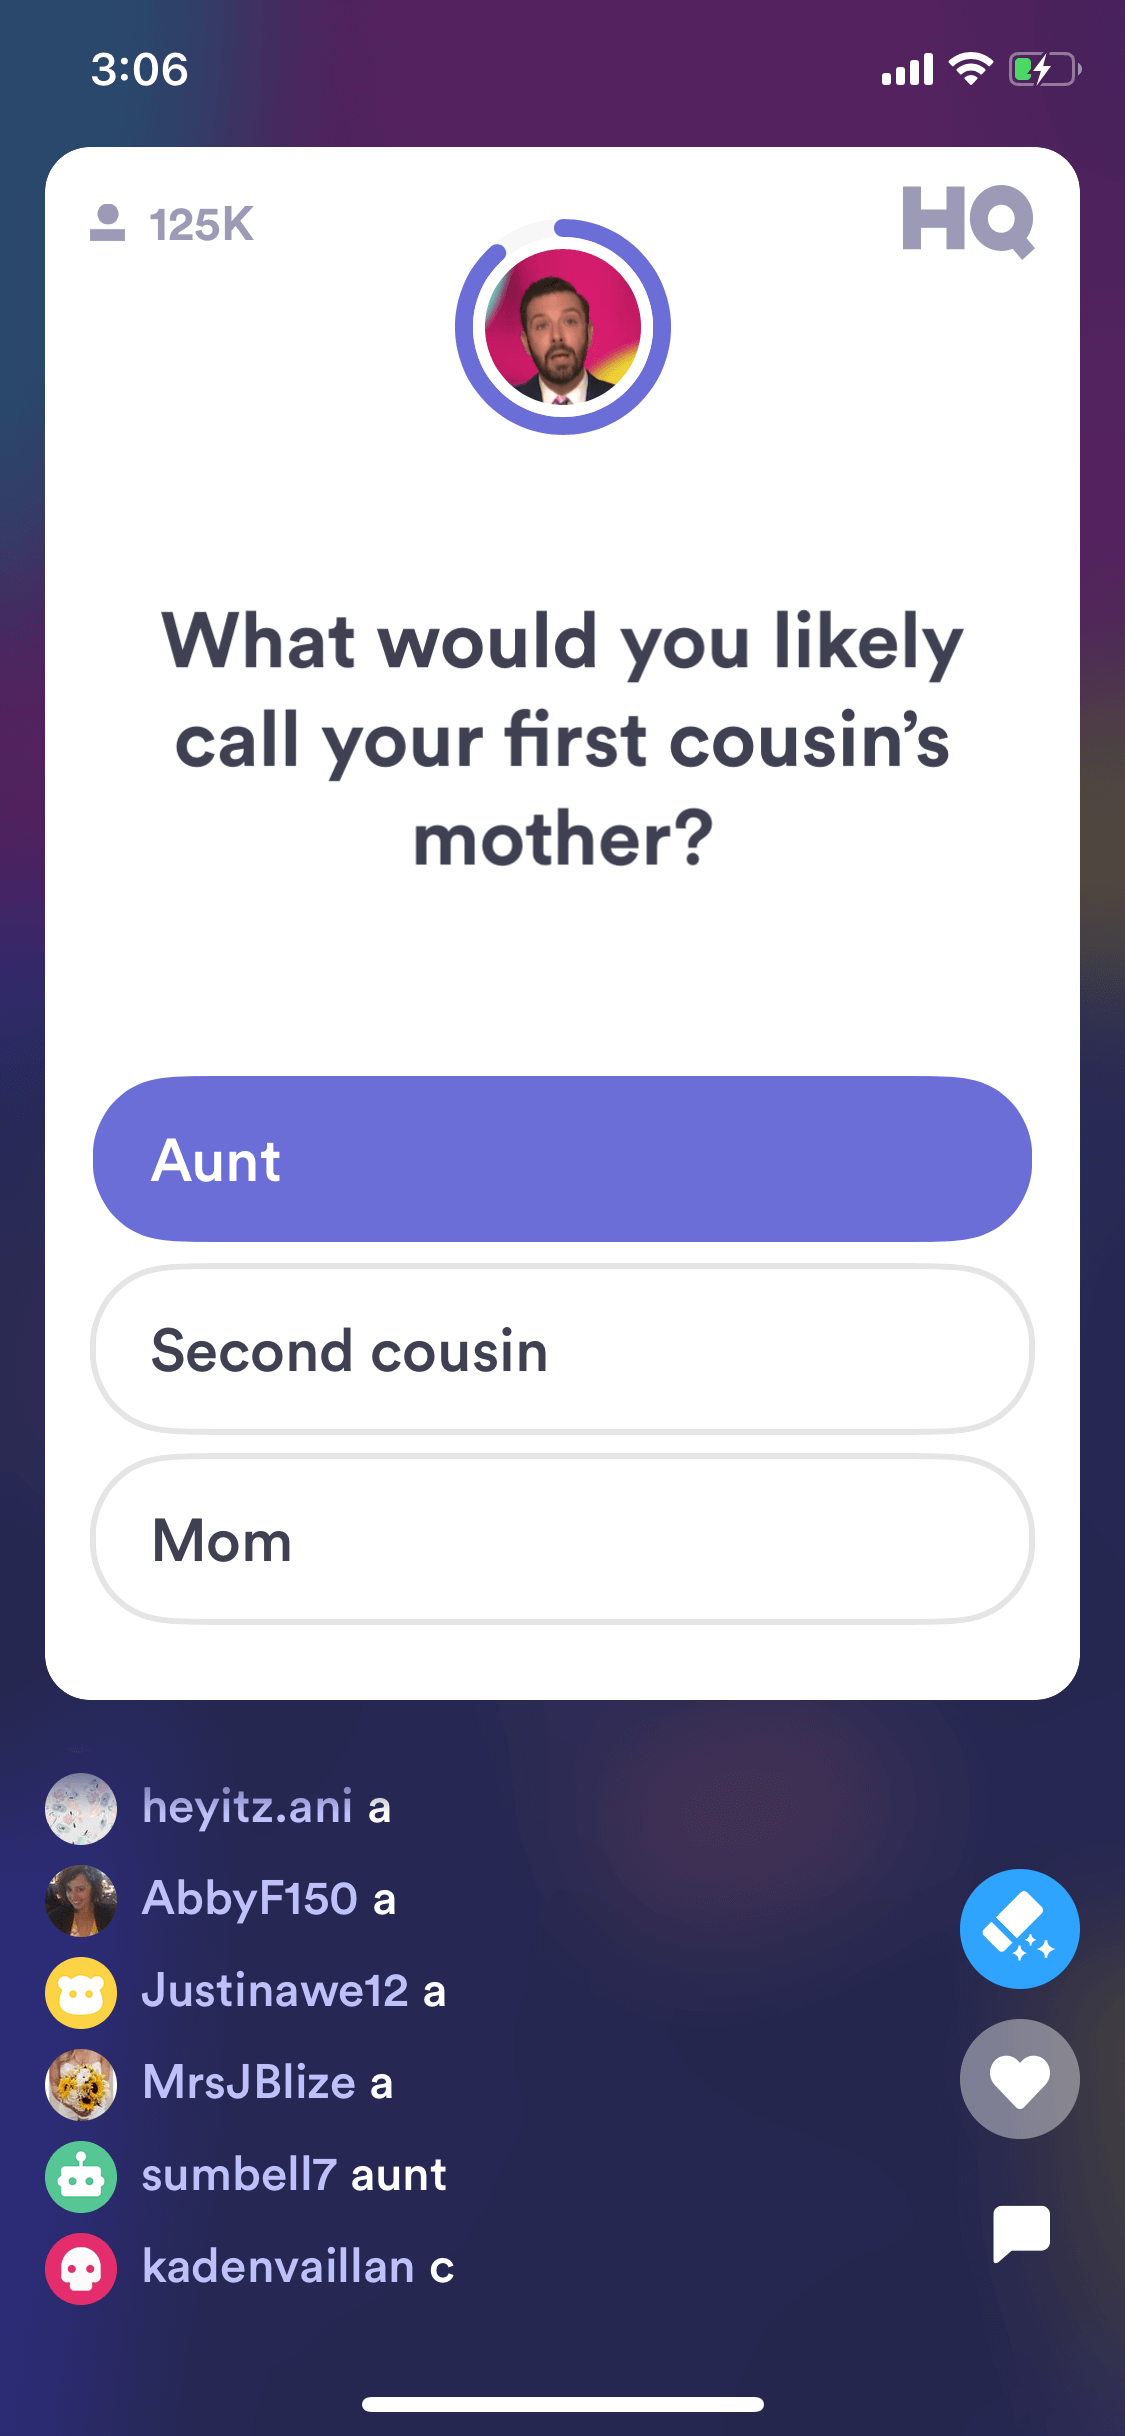Buttons: (79, 1449, 1038, 1639), (85, 1254, 1038, 1443), (92, 1067, 1038, 1251)
FAB (Floating Action Button): (948, 1858, 1102, 1996), (946, 2010, 1102, 2144), (949, 2164, 1095, 2279)
